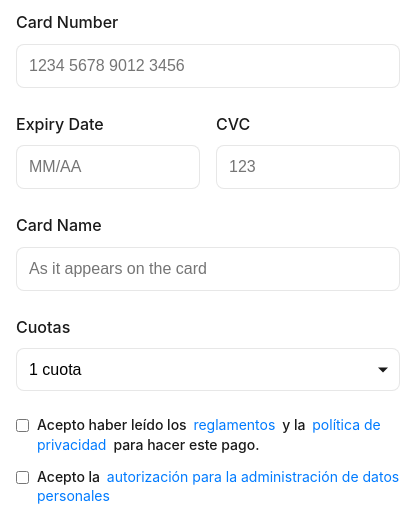
CardPaymentForm › detecta correctamente el tipo de tarjeta Visa
Type "4111111111111111" into the field with id "cardNumber" at coordinates (208, 66), box [16,44,400,88]
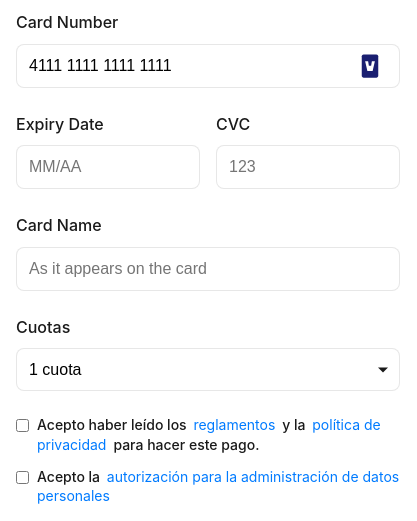
Expected: the picture named "Visa" is shown, [352,54,388,78]
